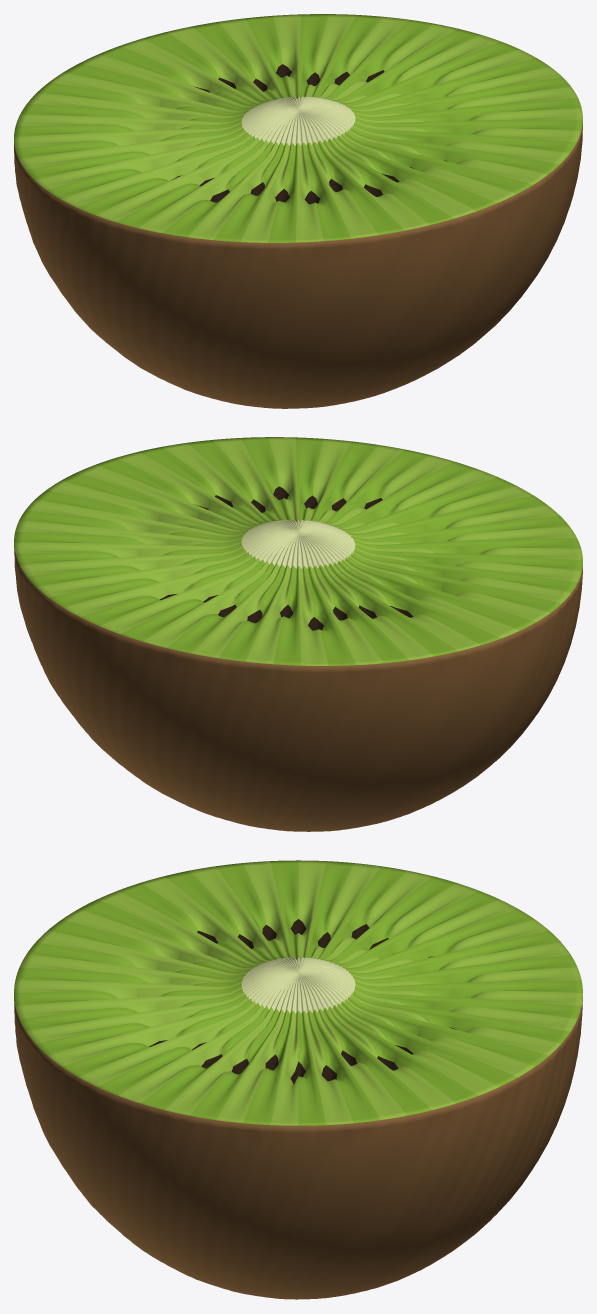
3 renders of one model, top to bottom at view 1: azimuth 30°, elevation 25°; view 2: azimuth 150°, elevation 25°; view 3: azimuth 270°, elevation 25°, orthographic. The views are drawn at different scales.
Parts seen in each view (by area): view 1: NEW334_KiwiHalf_LOD0; view 2: NEW334_KiwiHalf_LOD0; view 3: NEW334_KiwiHalf_LOD0.
Boxes of the visible parts, x1,y1,x2,y2 form: NEW334_KiwiHalf_LOD0: [14, 14, 582, 408]; NEW334_KiwiHalf_LOD0: [14, 437, 582, 831]; NEW334_KiwiHalf_LOD0: [14, 860, 582, 1299].
Size of the model in its own units: 0.0641 by 0.0333 by 0.058.
